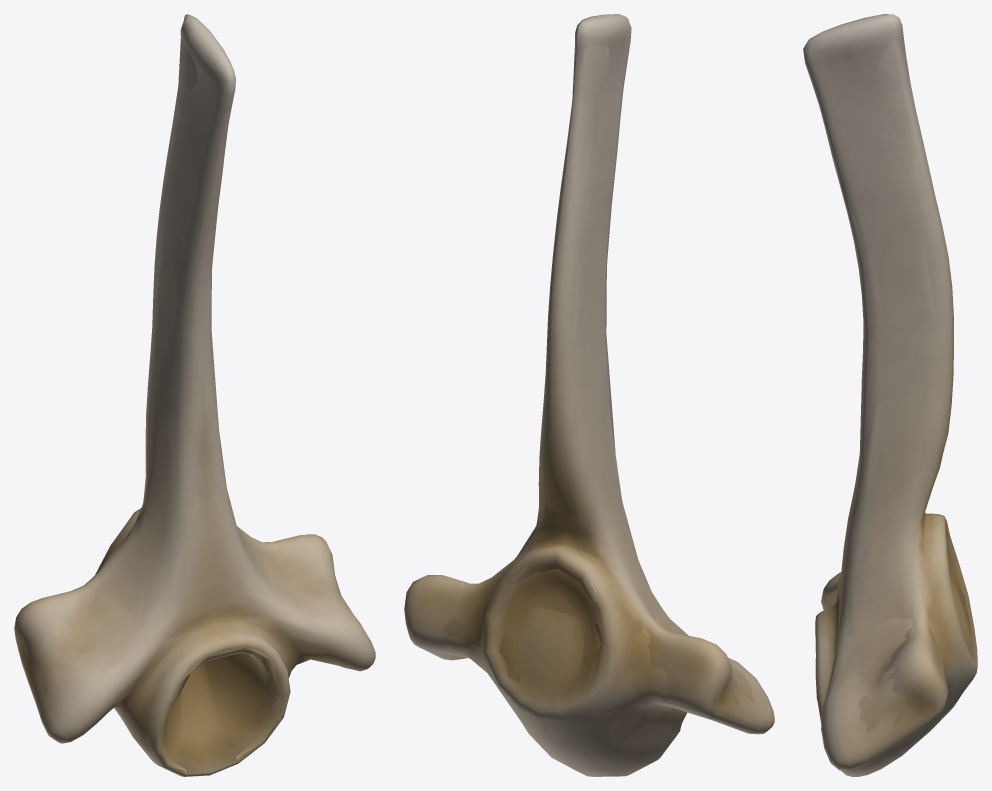
Rendered from vertebrae thoracicae 03.fbx.
3 renders of one model, left to right at view 1: azimuth 30°, elevation 25°; view 2: azimuth 150°, elevation 25°; view 3: azimuth 270°, elevation 25°, orthographic. The views are drawn at different scales.
Parts seen in each view (by area): view 1: vertebrae thoracicae 03, vertebrae thoracicae 03 low; view 2: vertebrae thoracicae 03, vertebrae thoracicae 03 low; view 3: vertebrae thoracicae 03, vertebrae thoracicae 03 low.
Part boxes in pixels (x1,y1,x2,y2): vertebrae thoracicae 03: (14,14,375,776); vertebrae thoracicae 03 low: (25,38,352,773); vertebrae thoracicae 03: (404,14,774,776); vertebrae thoracicae 03 low: (436,43,754,744); vertebrae thoracicae 03: (803,14,977,776); vertebrae thoracicae 03 low: (812,39,971,748).
Size of the model in its own units: 5.09 by 11.18 by 2.34.
1 material, 1 textured.
